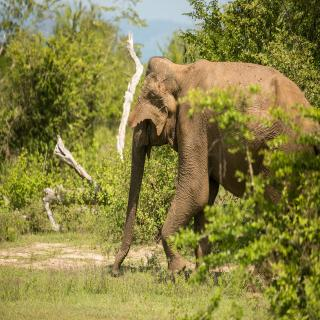Elephant: (112, 56, 320, 286)
